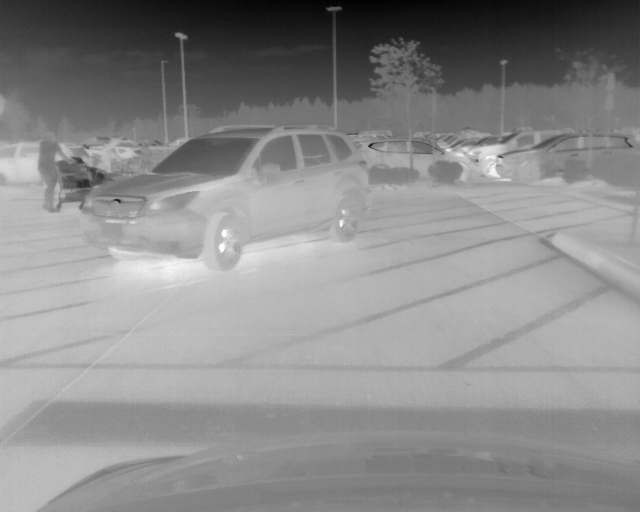car: (80, 124, 369, 273), (495, 130, 640, 184), (361, 138, 480, 185), (466, 128, 570, 181), (2, 142, 100, 185)
people: (37, 131, 74, 212)
